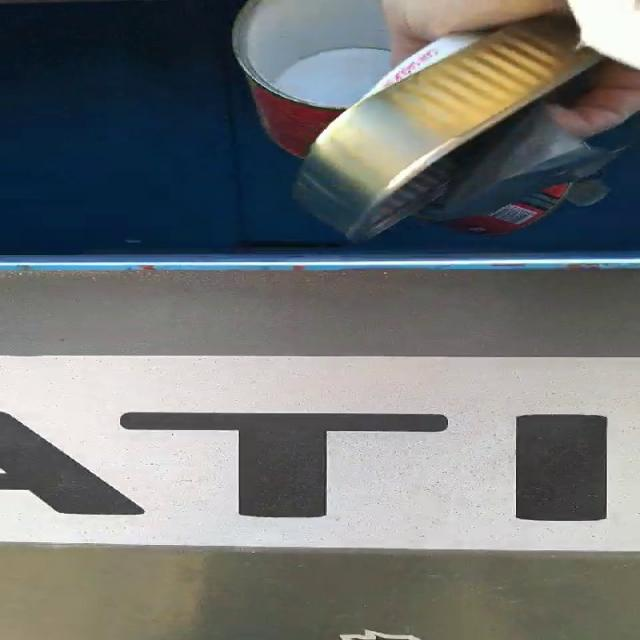bin: (1, 0, 640, 361), (1, 544, 640, 640)
metal: (233, 0, 629, 240)
